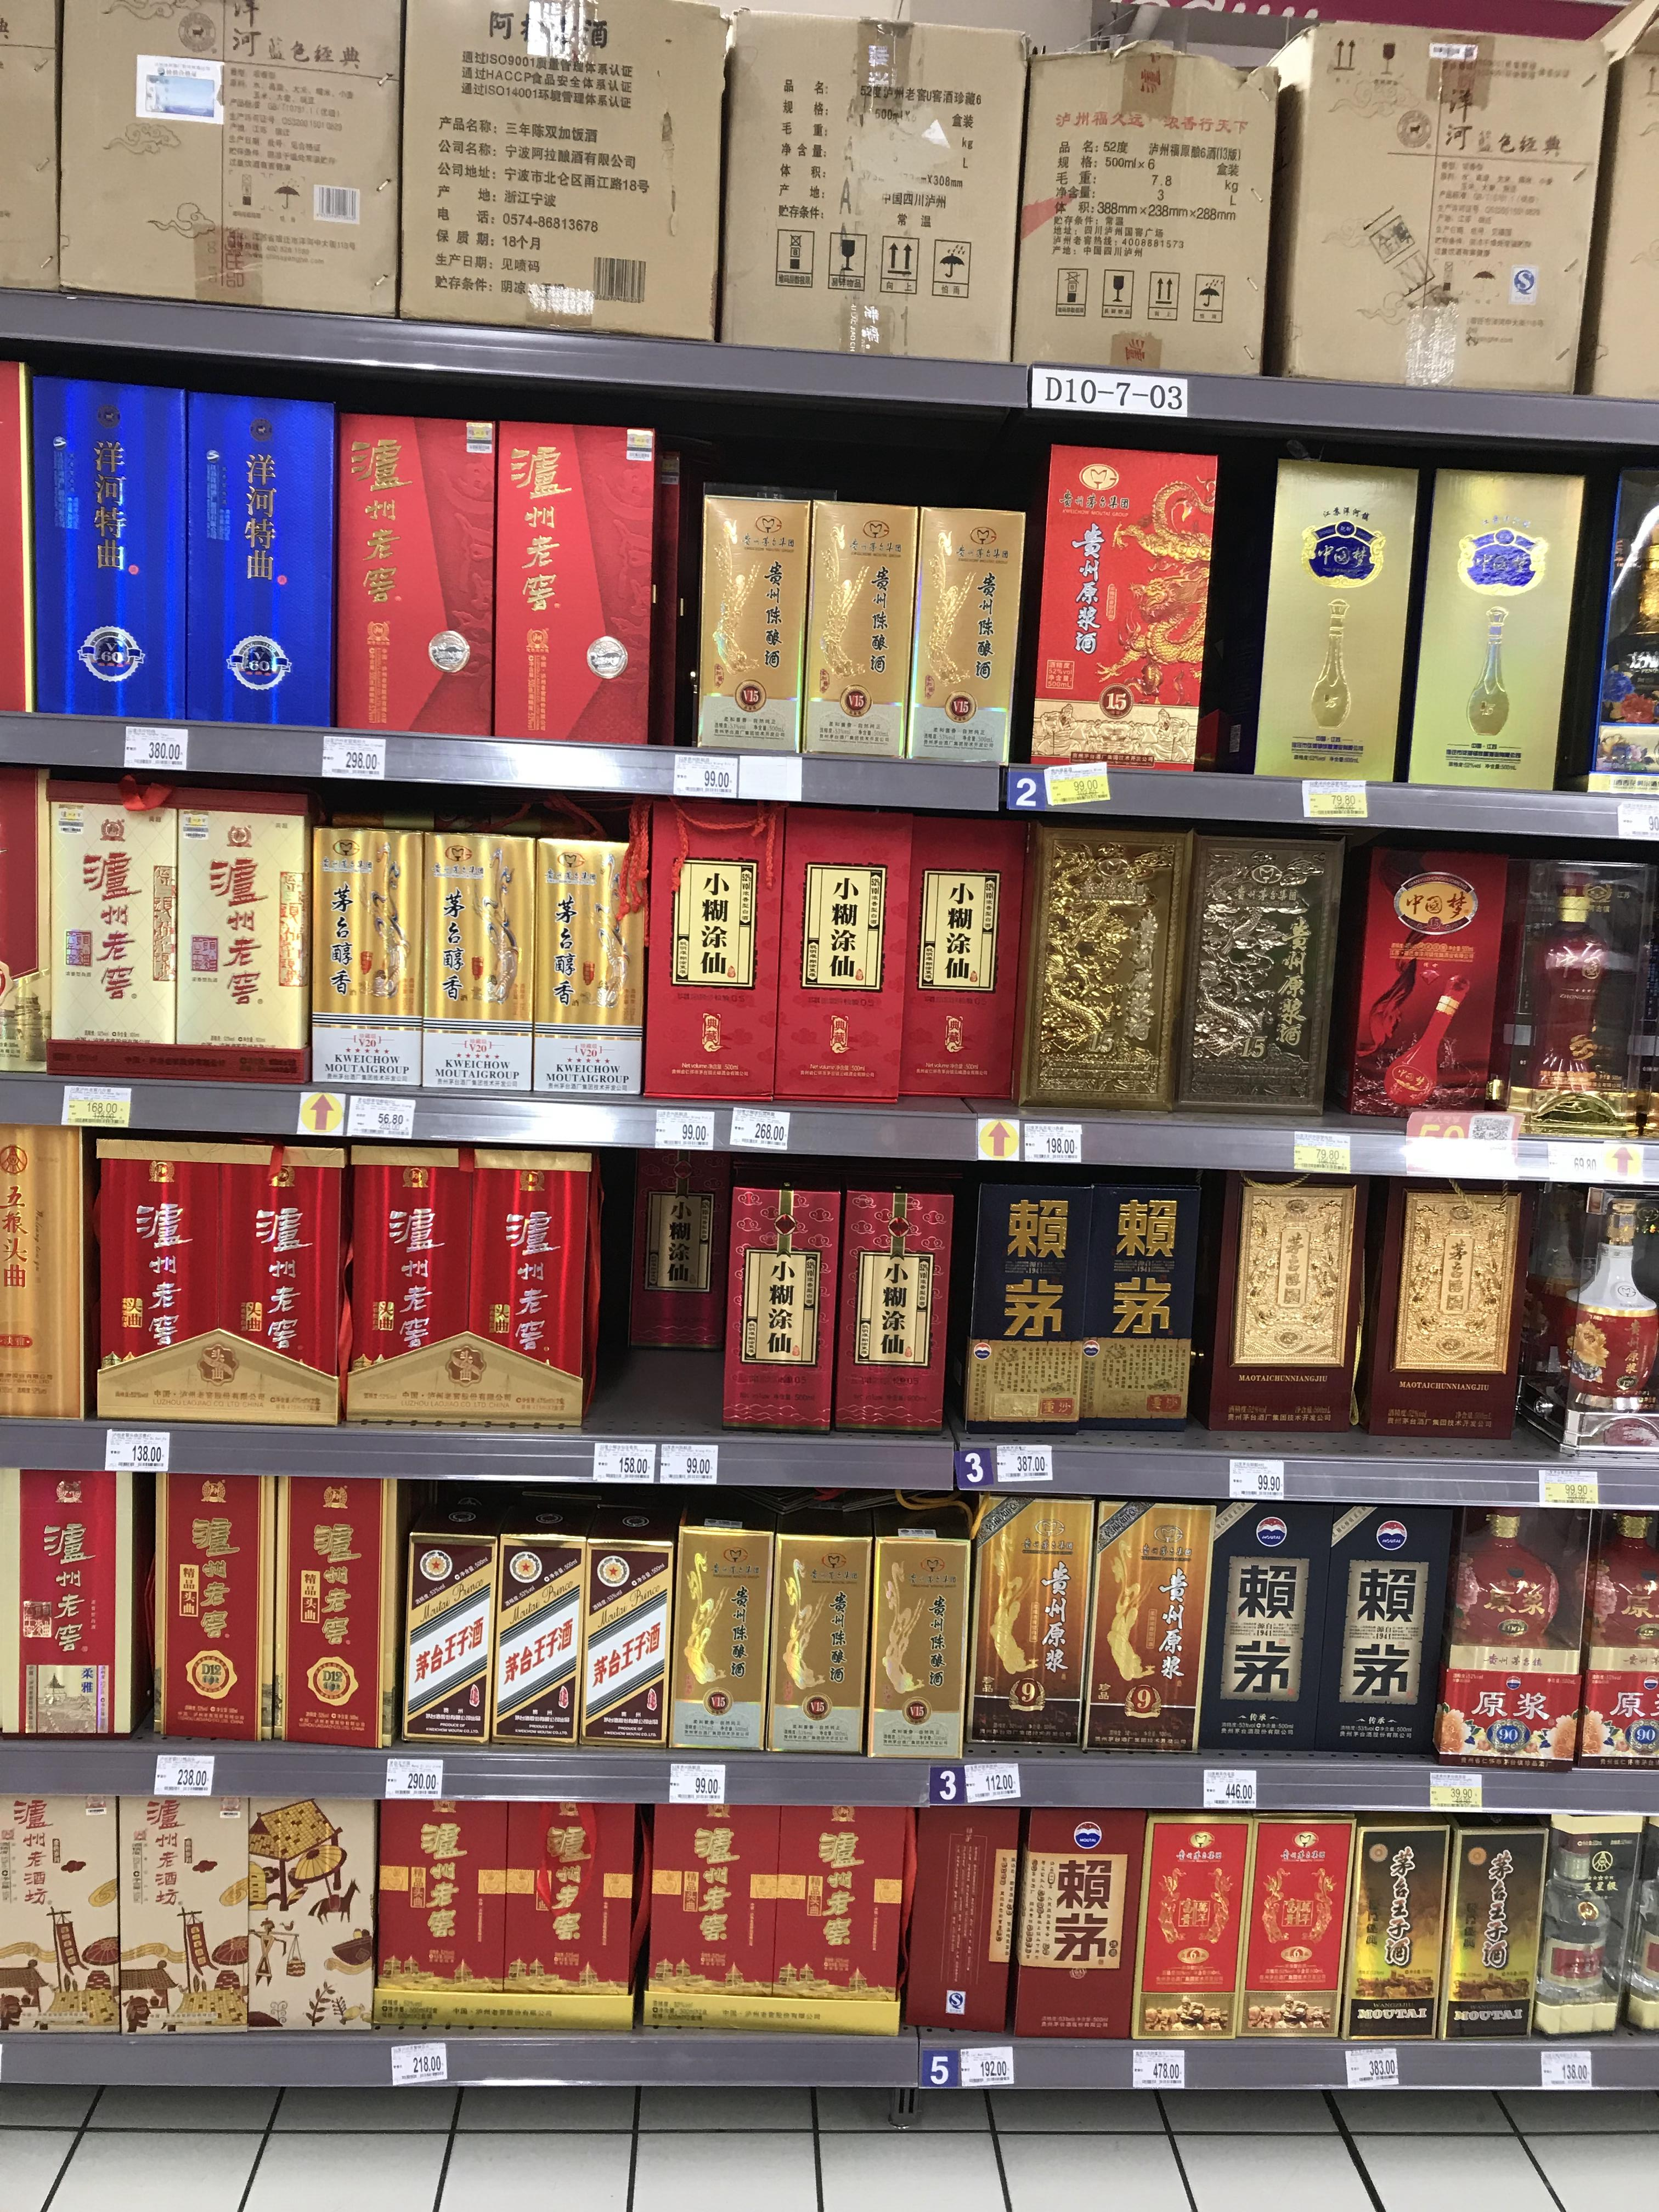bag: (1229, 448, 1425, 780), (1401, 462, 1589, 798), (1171, 824, 1338, 1111), (1349, 852, 1506, 1113), (1434, 1501, 1575, 1733), (1518, 874, 1633, 1136), (1432, 1817, 1544, 2036), (636, 1125, 727, 1325)
bottle: (1208, 1150, 1356, 1439), (1317, 1487, 1443, 1757), (1206, 1491, 1314, 1752), (838, 1190, 938, 1437), (1563, 1204, 1657, 1449), (1572, 1505, 1656, 1766)
box: (1016, 456, 1218, 763), (1023, 808, 1182, 1106), (148, 796, 310, 1073), (49, 782, 202, 1069), (275, 1463, 413, 1745), (765, 819, 903, 1099), (5, 1446, 131, 1747), (673, 493, 817, 752), (892, 822, 1026, 1099), (650, 796, 775, 1092), (897, 507, 1030, 768), (153, 1451, 272, 1742), (1082, 1487, 1213, 1749), (962, 1480, 1086, 1749), (1011, 1789, 1143, 2038), (795, 500, 918, 758), (1225, 1789, 1349, 2040), (965, 1155, 1080, 1423), (1131, 1784, 1244, 2036), (491, 1514, 605, 1756), (657, 1517, 774, 1743), (763, 1517, 878, 1745), (864, 1512, 978, 1742), (727, 1183, 831, 1430), (399, 1508, 507, 1747), (540, 829, 641, 1080), (105, 1784, 206, 2017), (1344, 1803, 1445, 2036), (5, 1784, 105, 2015), (436, 829, 521, 1087), (572, 1540, 674, 1745), (349, 817, 423, 1078), (319, 813, 390, 1068)
bucket: (1528, 1817, 1631, 2036)
others: (1265, 17, 1628, 401), (383, 3, 730, 354), (52, 9, 406, 329), (1011, 40, 1298, 390), (824, 21, 1033, 361), (349, 402, 538, 747), (477, 420, 669, 751), (666, 1775, 901, 2022), (397, 1768, 619, 2012), (716, 5, 864, 348), (223, 1784, 361, 2017)
